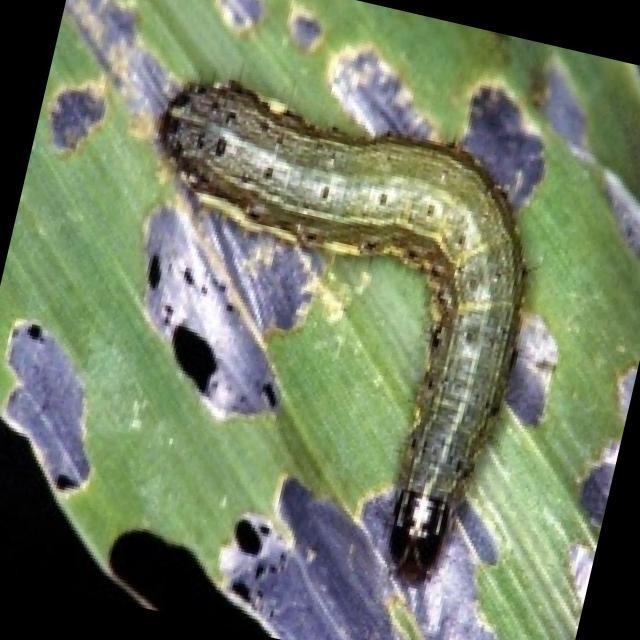Plaga: (63, 65, 581, 609)
